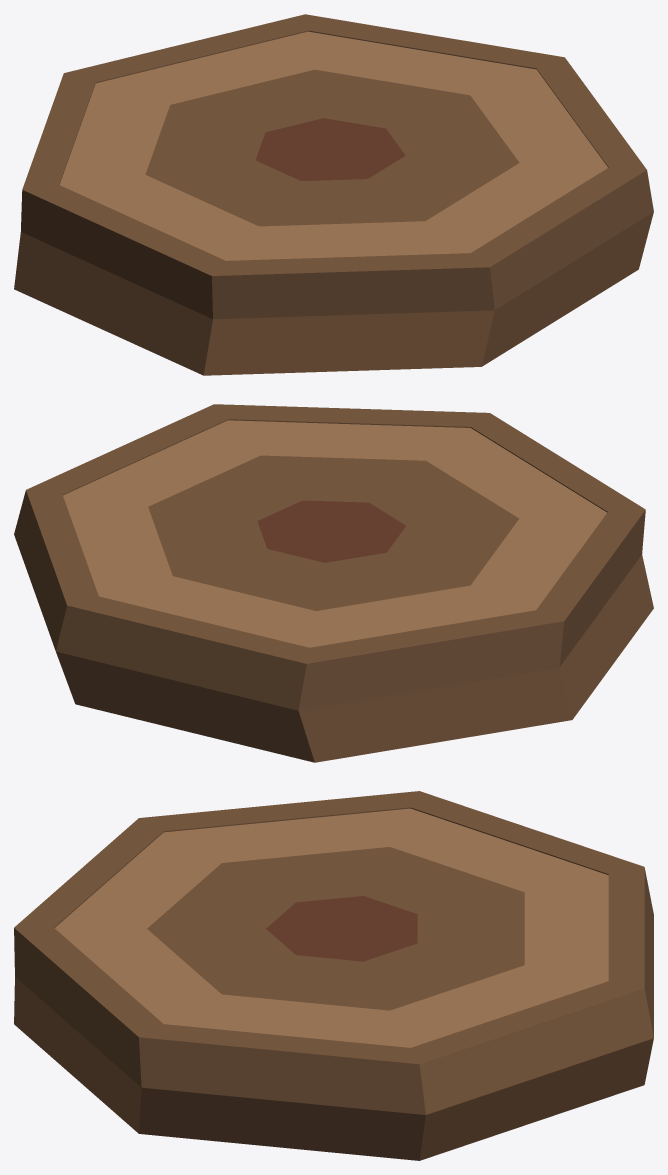
Rendered from Log_04.glb.
The picture shows the model from 3 angles, top to bottom: view 1: azimuth 30°, elevation 25°; view 2: azimuth 150°, elevation 25°; view 3: azimuth 270°, elevation 25°; orthographic projection. The views are drawn at different scales.
Parts seen in each view (by area): view 1: Log_04; view 2: Log_04; view 3: Log_04.
Boxes of the visible parts, <box> form: Log_04: <box>14,14,653,375</box>; Log_04: <box>14,404,653,762</box>; Log_04: <box>14,791,653,1160</box>.
Size of what is drawn, in the model's own units: 0.6644 by 0.1107 by 0.6373.
1 material, 1 textured.
